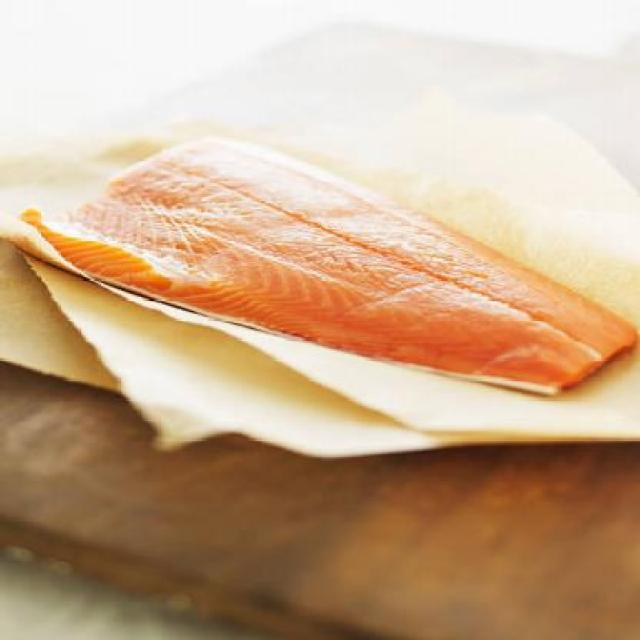salmon: (12, 136, 640, 406)
